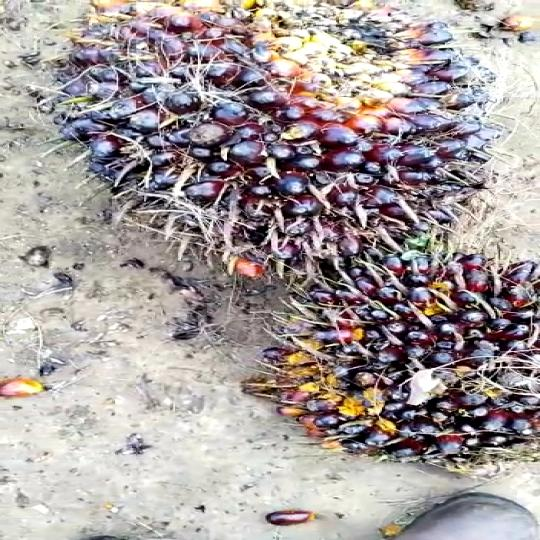kurang masak: (44, 0, 518, 285), (254, 254, 540, 476)
